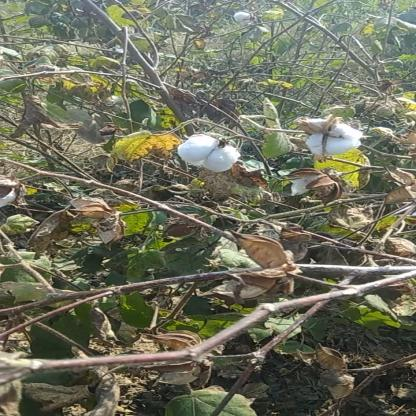cotton_ready: (170, 130, 274, 197), (286, 116, 380, 176)
